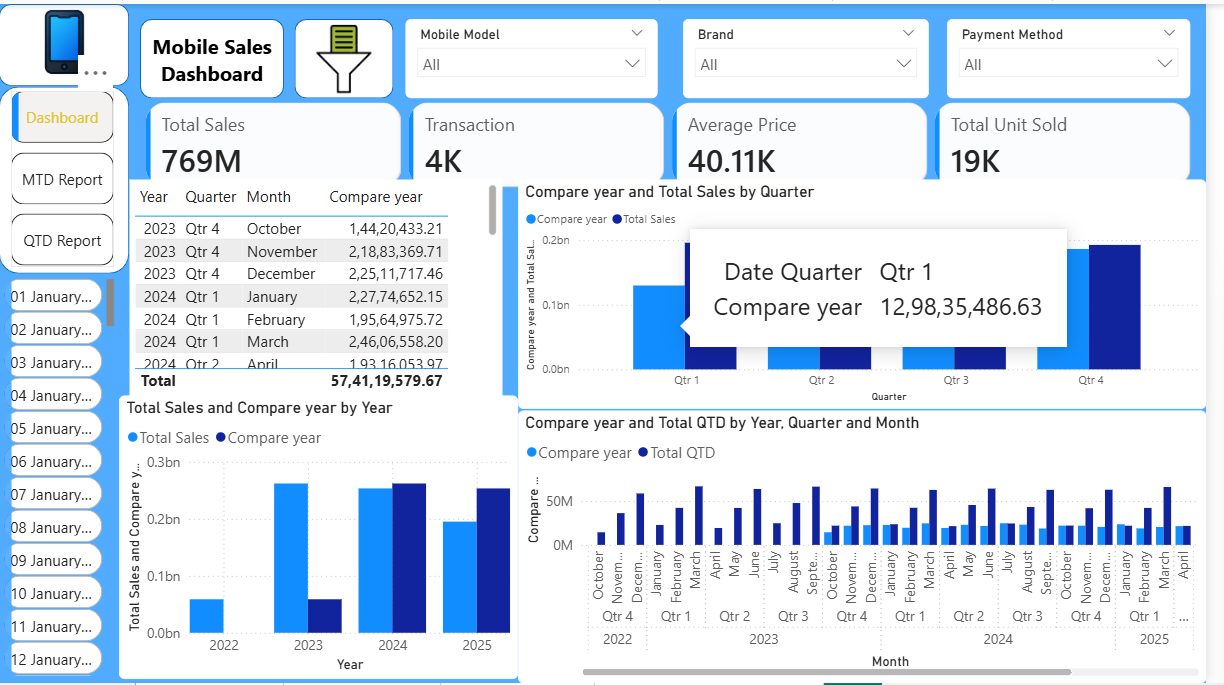

What the dashboard file says about the page in this screenshot:
{"tool":"powerbi","page":{"name":"Campare to last year","canvas":[1280,720],"ordinal":3},"visuals":[{"type":"shape","box":[149.5,15.9,152.7,84.3],"z":0},{"type":"shape","box":[0,0,138,86.9],"z":1000},{"type":"image","box":[0,0,138.4,81.1],"z":2000},{"type":"shape","box":[0,86.9,138,198.4],"z":3000},{"type":"cardVisual","fields":{"Data":["Sheet1.Total Sales","Sheet1.Transaction","Sheet1.Average Price","Sheet1.Total Unit Sold"]},"box":[138.4,81.1,1142.1,130.4],"z":4000},{"type":"slicer","fields":{"Values":["Sheet1.Mobile Model"]},"box":[431.1,15.9,267.2,84.3],"z":5000},{"type":"slicer","fields":{"Values":["Sheet1.Brand"]},"box":[725.3,15.9,260.9,84.3],"z":6000},{"type":"slicer","fields":{"Values":["Sheet1.Payment Method"]},"box":[1005.3,15.9,257.7,84.3],"z":7000},{"type":"shape","box":[313.4,15.9,105,84.3],"z":8000},{"type":"image","box":[278.4,12.7,175,90.7],"z":9000},{"type":"clusteredColumnChart","fields":{"Category":["Date.Date.Variation.Date Hierarchy.Year","Date.Date.Variation.Date Hierarchy.Quarter"],"Y":["Sheet1.Total Sales","Sheet1.Compare year"]},"box":[127.2,415.1,423.1,300.6],"z":10000},{"type":"advancedSlicerVisual","fields":{"Values":["Date.Date"]},"box":[0,285.8,127.2,434.2],"z":11000},{"type":"clusteredColumnChart","fields":{"Category":["Date.Date.Variation.Date Hierarchy.Year","Date.Date.Variation.Date Hierarchy.Quarter"],"Y":["Sheet1.Compare year","Sheet1.Total Sales"]},"box":[550.4,186.1,730.1,243.4],"z":12000},{"type":"clusteredColumnChart","fields":{"Y":["Sheet1.Compare year","Sheet1.Total QTD"],"Category":["Date.Date.Variation.Date Hierarchy.Year","Date.Date.Variation.Date Hierarchy.Quarter","Date.Date.Variation.Date Hierarchy.Month","Date.Date.Variation.Date Hierarchy.Day"]},"box":[550.4,431.1,730.1,289.5],"z":13000},{"type":"tableEx","fields":{"Values":["Date.Date.Variation.Date Hierarchy.Year","Date.Date.Variation.Date Hierarchy.Quarter","Date.Date.Variation.Date Hierarchy.Month","Sheet1.Compare year"]},"box":[138.4,186.1,394.5,229],"z":14000},{"type":"pageNavigator","box":[12.7,92.3,109.8,186.1],"z":15000}]}

Visuals, with their boxes on the page's 1280x720 design canvas (x1, y1, x2, y2). These are canvas units, not pixel positions in the 1224x685 screenshot, which may show the page scaled, cropped or inside an application window:
shape: (left=150, top=16, right=302, bottom=100)
shape: (left=0, top=0, right=138, bottom=87)
image: (left=0, top=0, right=138, bottom=81)
shape: (left=0, top=87, right=138, bottom=285)
cardVisual - Sheet1.Total Sales x Sheet1.Transaction: (left=138, top=81, right=1280, bottom=212)
slicer - Sheet1.Mobile Model: (left=431, top=16, right=698, bottom=100)
slicer - Sheet1.Brand: (left=725, top=16, right=986, bottom=100)
slicer - Sheet1.Payment Method: (left=1005, top=16, right=1263, bottom=100)
shape: (left=313, top=16, right=418, bottom=100)
image: (left=278, top=13, right=453, bottom=103)
clusteredColumnChart - Date.Date.Variation.Date Hierarchy.Year x Date.Date.Variation.Date Hierarchy.Quarter: (left=127, top=415, right=550, bottom=716)
advancedSlicerVisual - Date.Date: (left=0, top=286, right=127, bottom=720)
clusteredColumnChart - Date.Date.Variation.Date Hierarchy.Year x Date.Date.Variation.Date Hierarchy.Quarter: (left=550, top=186, right=1280, bottom=430)
clusteredColumnChart - Sheet1.Compare year x Sheet1.Total QTD: (left=550, top=431, right=1280, bottom=721)
tableEx - Date.Date.Variation.Date Hierarchy.Year x Date.Date.Variation.Date Hierarchy.Quarter: (left=138, top=186, right=533, bottom=415)
pageNavigator: (left=13, top=92, right=122, bottom=278)
